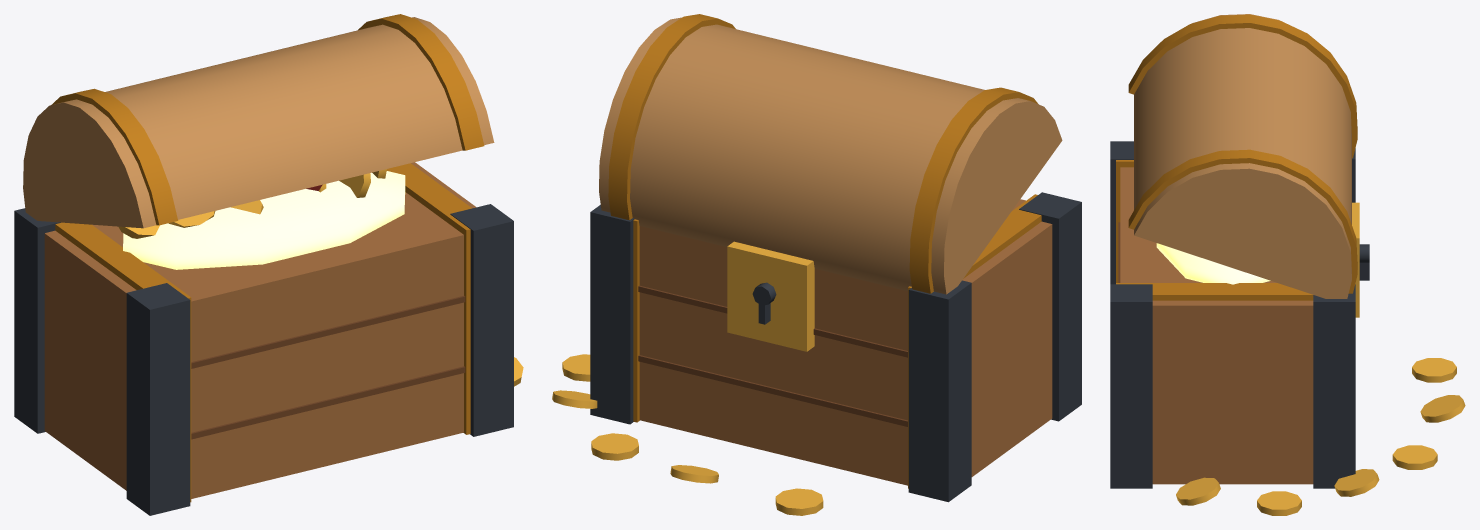
The model's file is TreasureChest.glb.
3 renders of one model, left to right at view 1: azimuth 30°, elevation 25°; view 2: azimuth 150°, elevation 25°; view 3: azimuth 270°, elevation 25°, orthographic. The views are drawn at different scales.
Visible parts, largest first — view 1: Body, Glow; view 2: Body; view 3: Body, Glow.
Boxes of the visible parts, left/top/right/bottom form: Body: left=14, top=14, right=523, bottom=515; Glow: left=123, top=171, right=405, bottom=269; Body: left=552, top=14, right=1081, bottom=515; Body: left=1110, top=14, right=1465, bottom=515; Glow: left=1156, top=243, right=1270, bottom=284.
Bounding box in the file's own units: 3.19 × 2.52 × 2.52.
2 materials, 1 textured.
